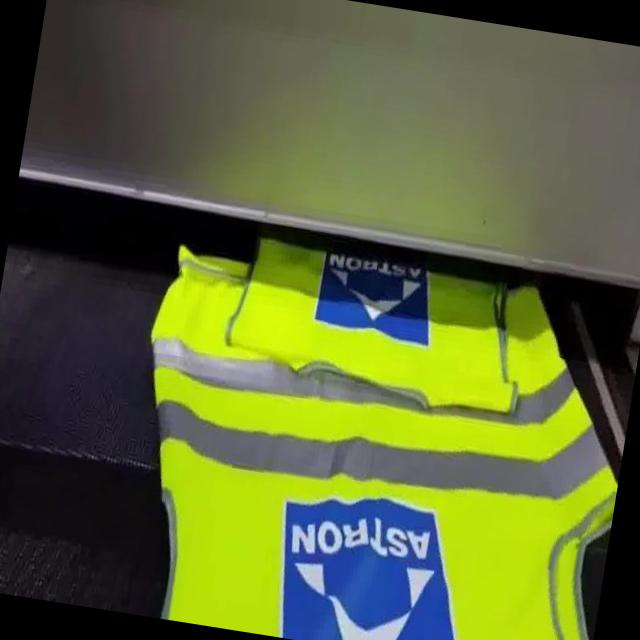safety_vest: (105, 228, 640, 640)
